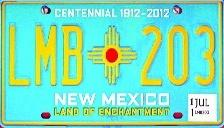0: (165, 23, 191, 87)
2: (138, 23, 166, 87)
3: (193, 23, 218, 87)
B: (60, 23, 85, 87)
L: (5, 23, 33, 87)
M: (33, 23, 61, 87)
